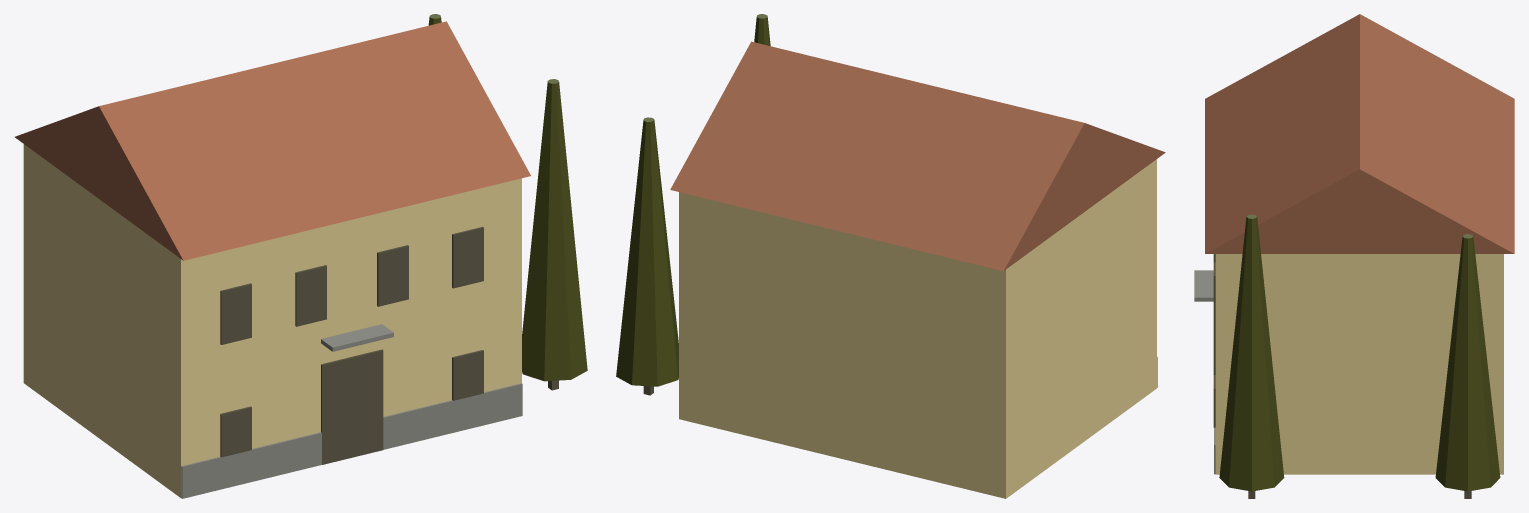
The model's file is SM_CasaLabor_v1_Ocre_LOD0.fbx.
3 views of the same model, side by side, from view 1: azimuth 30°, elevation 25°; view 2: azimuth 150°, elevation 25°; view 3: azimuth 270°, elevation 25° (orthographic). The views are drawn at different scales.
Visible parts, largest first — view 1: SM_bloques.viveres_nules_v11_LOD0; view 2: SM_bloques.viveres_nules_v11_LOD0; view 3: SM_bloques.viveres_nules_v11_LOD0.
Part boxes in pixels (x1,y1,x2,y2): SM_bloques.viveres_nules_v11_LOD0: [15, 14, 587, 498]; SM_bloques.viveres_nules_v11_LOD0: [616, 14, 1165, 498]; SM_bloques.viveres_nules_v11_LOD0: [1194, 14, 1514, 498].
Size of the model in its own units: 12.5 by 9.4 by 8.9.
